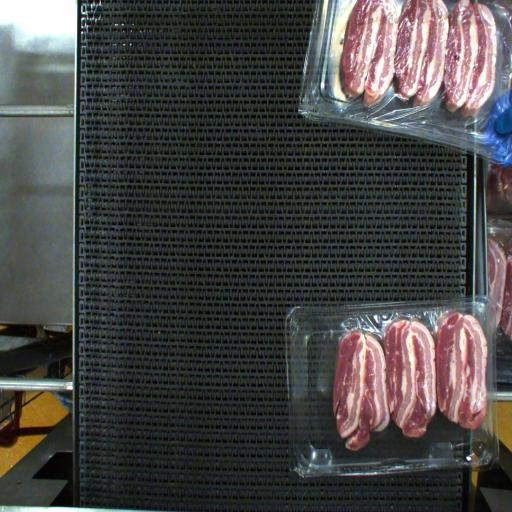twisted-meat: (337, 306, 487, 356)
